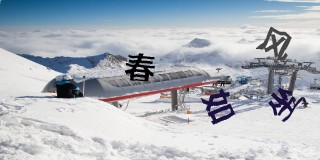坐: (268, 87, 304, 122)
如: (200, 89, 235, 123)
春: (124, 52, 156, 82)
风: (257, 26, 292, 62)
